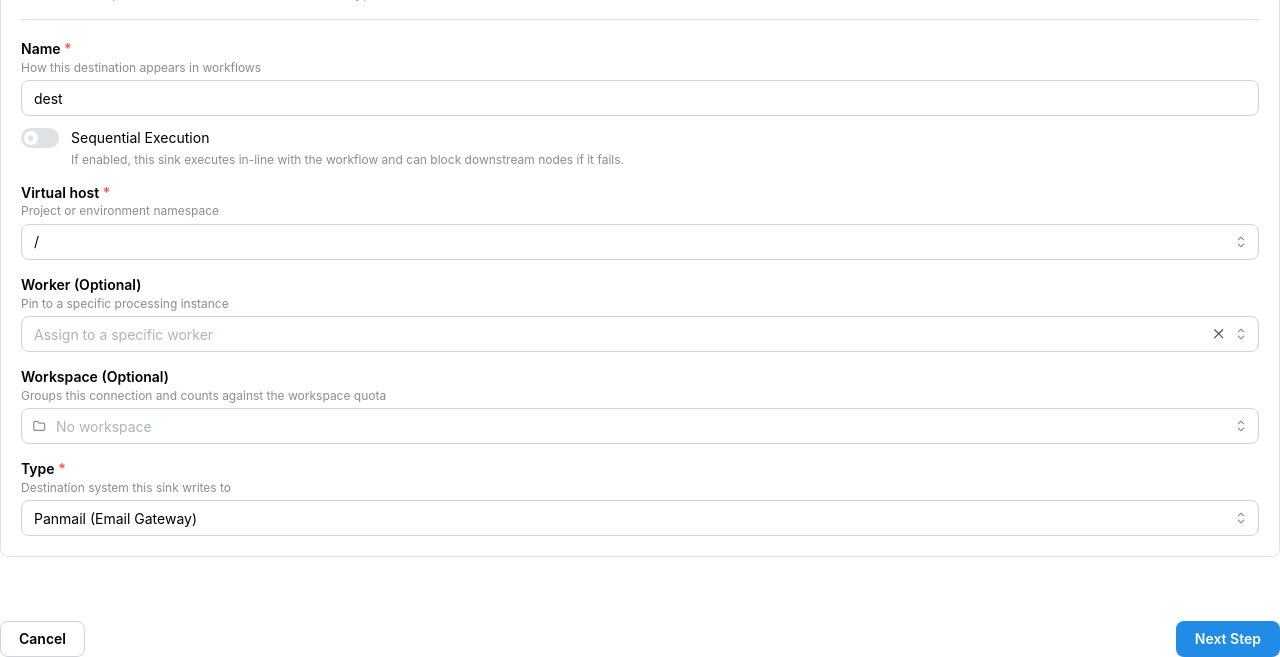
Test case: the Panmail connection step › collects the five settings the gateway refuses to guess
The image size is (1280, 657).
(page scrolled)
Click the button "Next Step".
click(1228, 639)  # box [1176,621,1279,656]
(page scrolled)
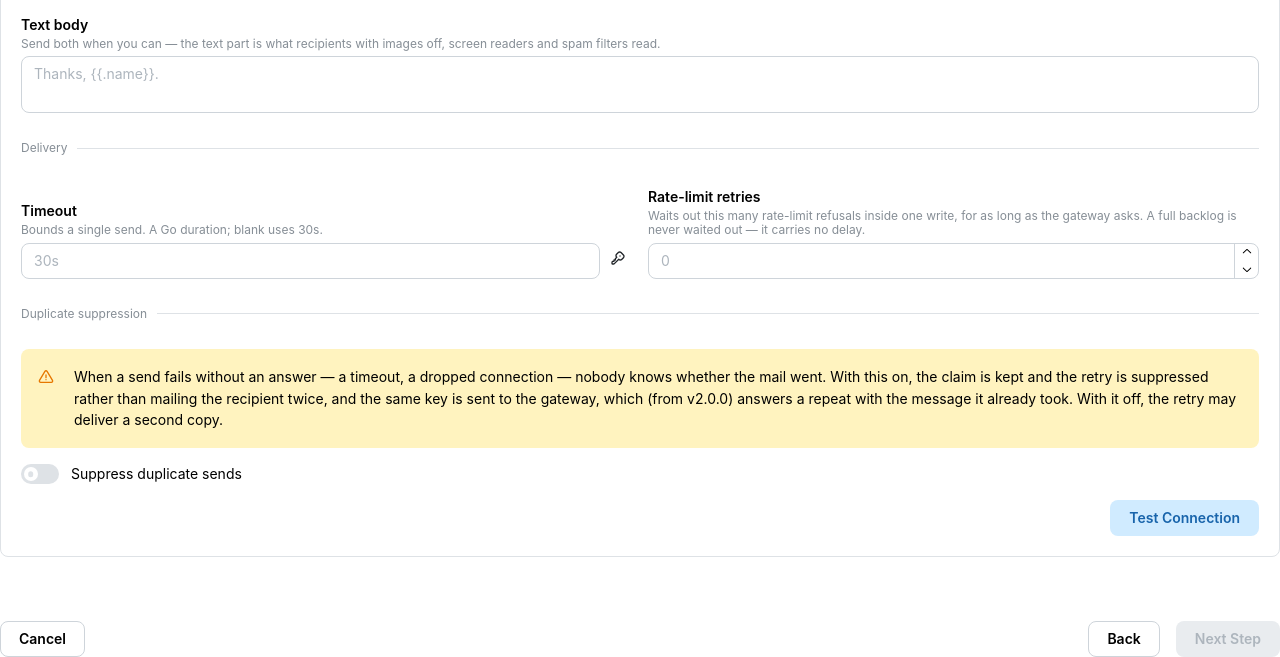
Expected: the button "Next Step" is disabled, [1176,621,1279,656]
